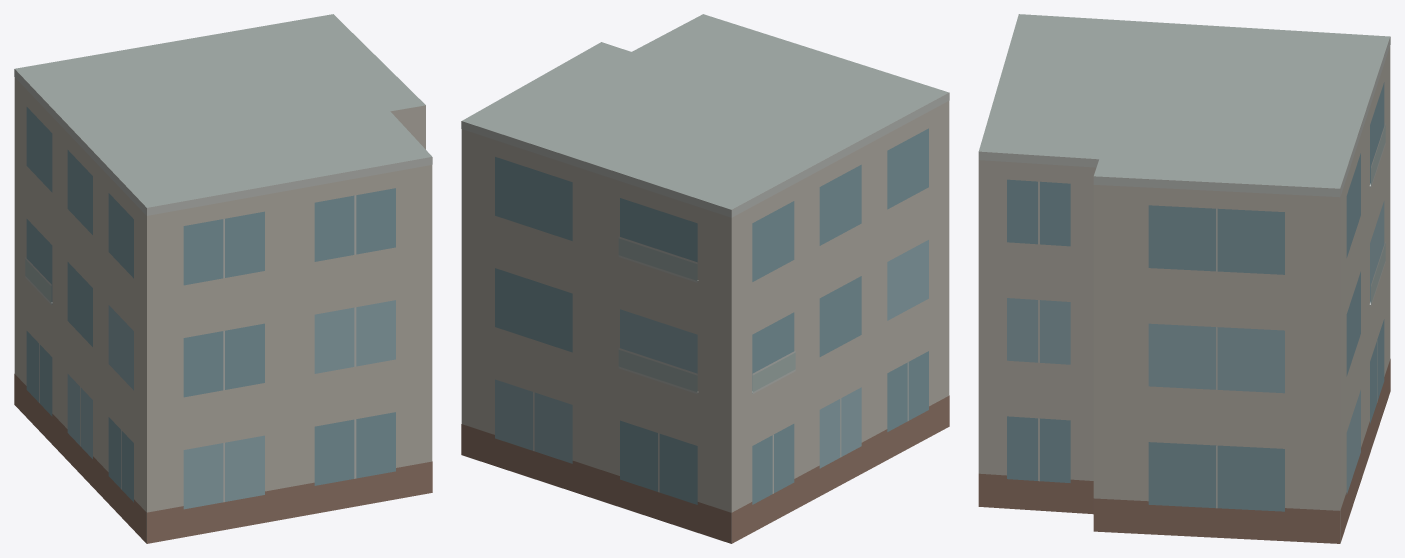
File: survey-upis-32670013.glb
3 views of the same model, side by side, from view 1: azimuth 30°, elevation 25°; view 2: azimuth 150°, elevation 25°; view 3: azimuth 270°, elevation 25° (orthographic). The views are drawn at different scales.
Parts seen in each view (by area): view 1: survey-upis-32670013.tmp; view 2: survey-upis-32670013.tmp; view 3: survey-upis-32670013.tmp.
Boxes of the visible parts, box(x1,y1,x2,y2) form: survey-upis-32670013.tmp: box(14, 14, 432, 543); survey-upis-32670013.tmp: box(461, 14, 949, 543); survey-upis-32670013.tmp: box(978, 14, 1390, 543).
Size of the model in its own units: 10.77 by 10.2 by 10.73.
